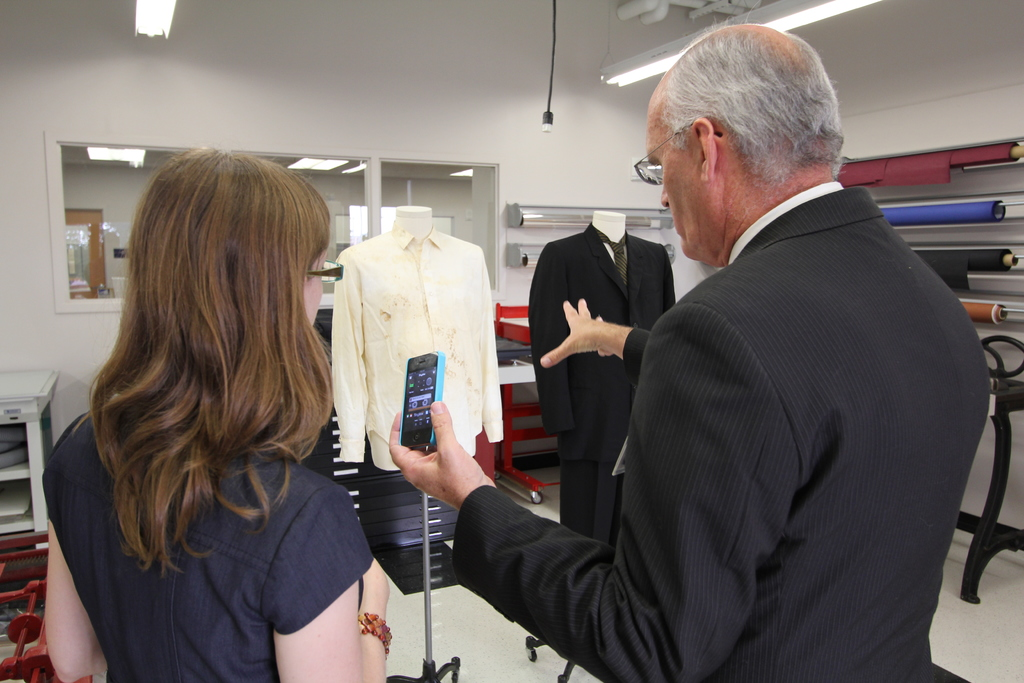Mobile-phone: (399, 350, 441, 449)
